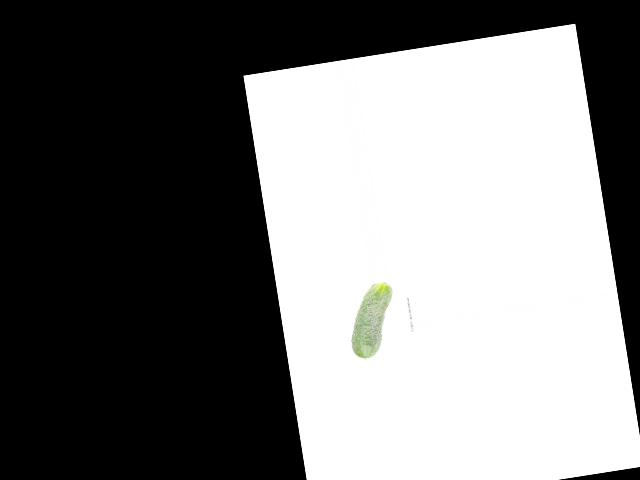cucumber: (342, 281, 402, 361)
